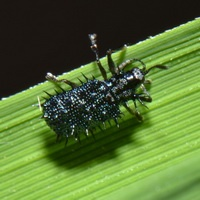insect: (39, 34, 167, 143)
